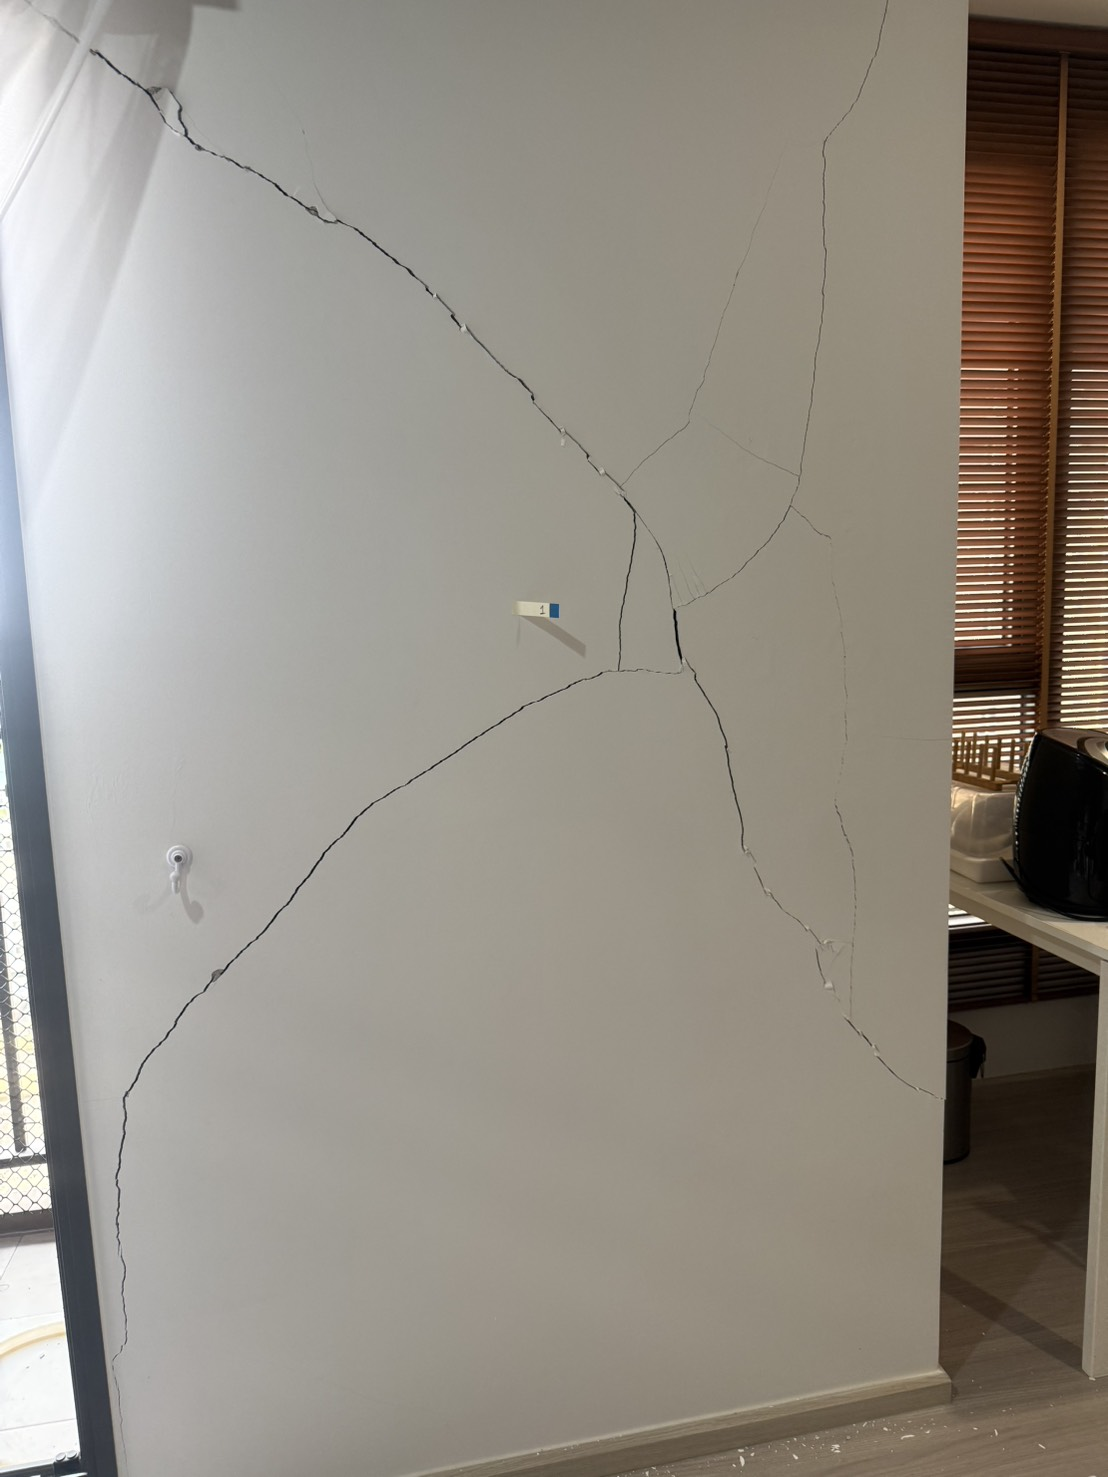High: (90, 16, 940, 1375)
